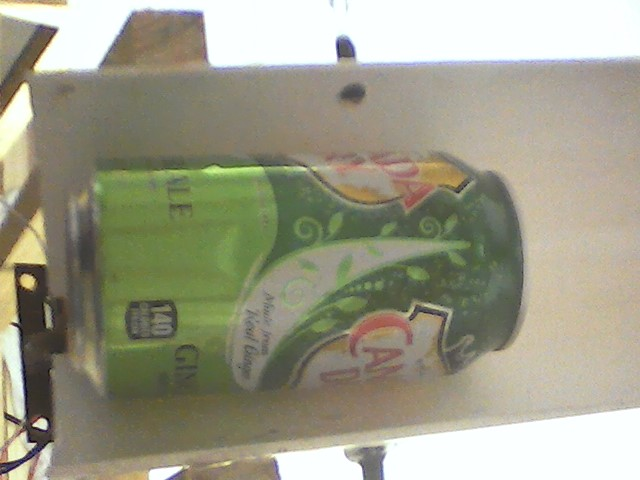lata: (59, 141, 540, 404)
